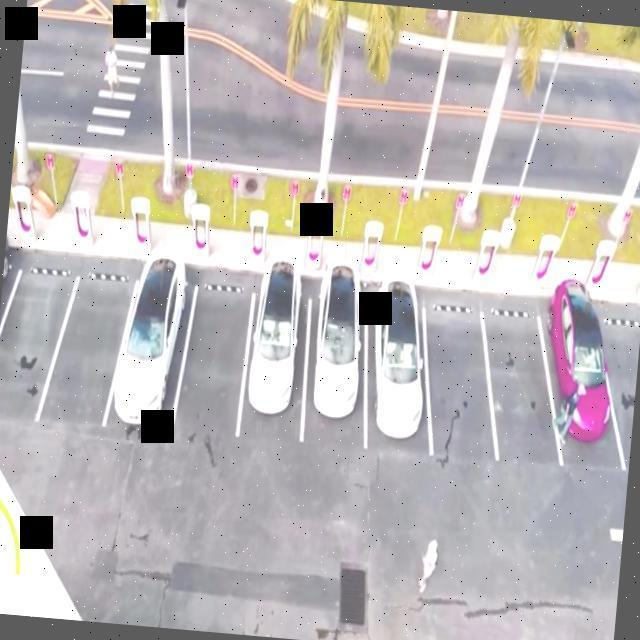car: (537, 286, 620, 462), (350, 296, 443, 451), (120, 276, 192, 442), (297, 298, 376, 436), (237, 292, 309, 439)
free: (468, 300, 574, 466), (414, 302, 506, 465), (178, 282, 254, 440), (51, 268, 126, 428), (0, 262, 67, 426), (591, 313, 640, 460)
